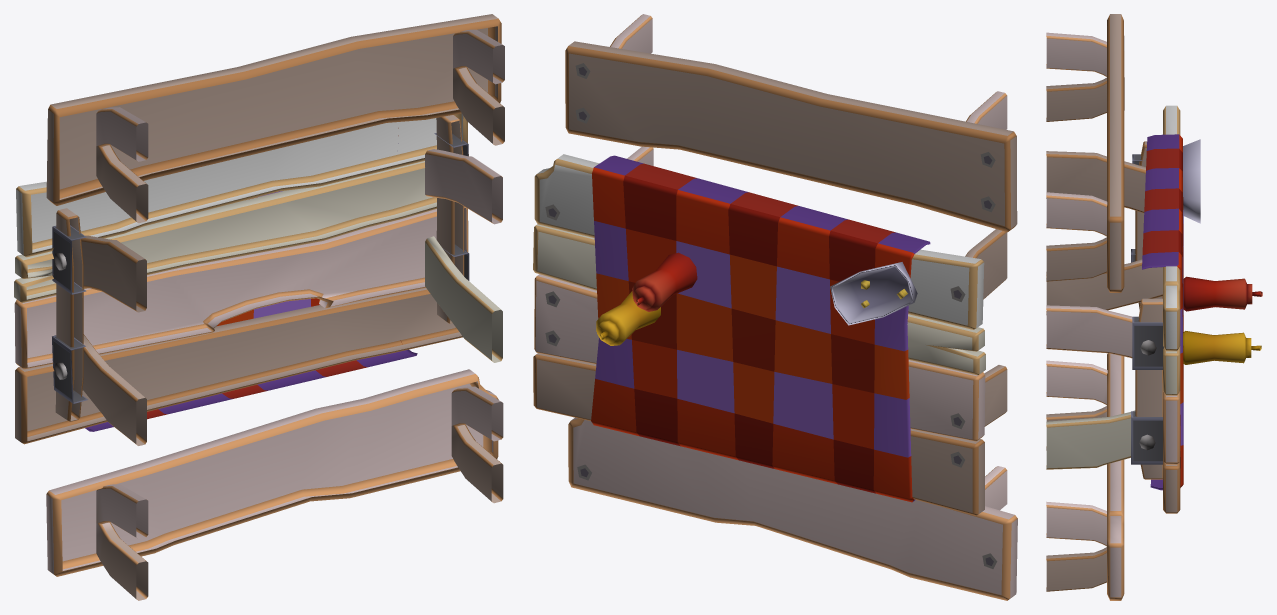
The model's file is PicnicTable.fbx.
3 renders of one model, left to right at view 1: azimuth 30°, elevation 25°; view 2: azimuth 150°, elevation 25°; view 3: azimuth 270°, elevation 25°, orthographic. The views are drawn at different scales.
Parts seen in each view (by area): view 1: PicnicTable; view 2: PicnicTable; view 3: PicnicTable.
Boxes of the visible parts, x1,y1,x2,y2 form: PicnicTable: [14, 14, 504, 600]; PicnicTable: [533, 14, 1017, 600]; PicnicTable: [1046, 14, 1262, 600].
Size of the model in its own units: 200 by 203 by 96.1.
